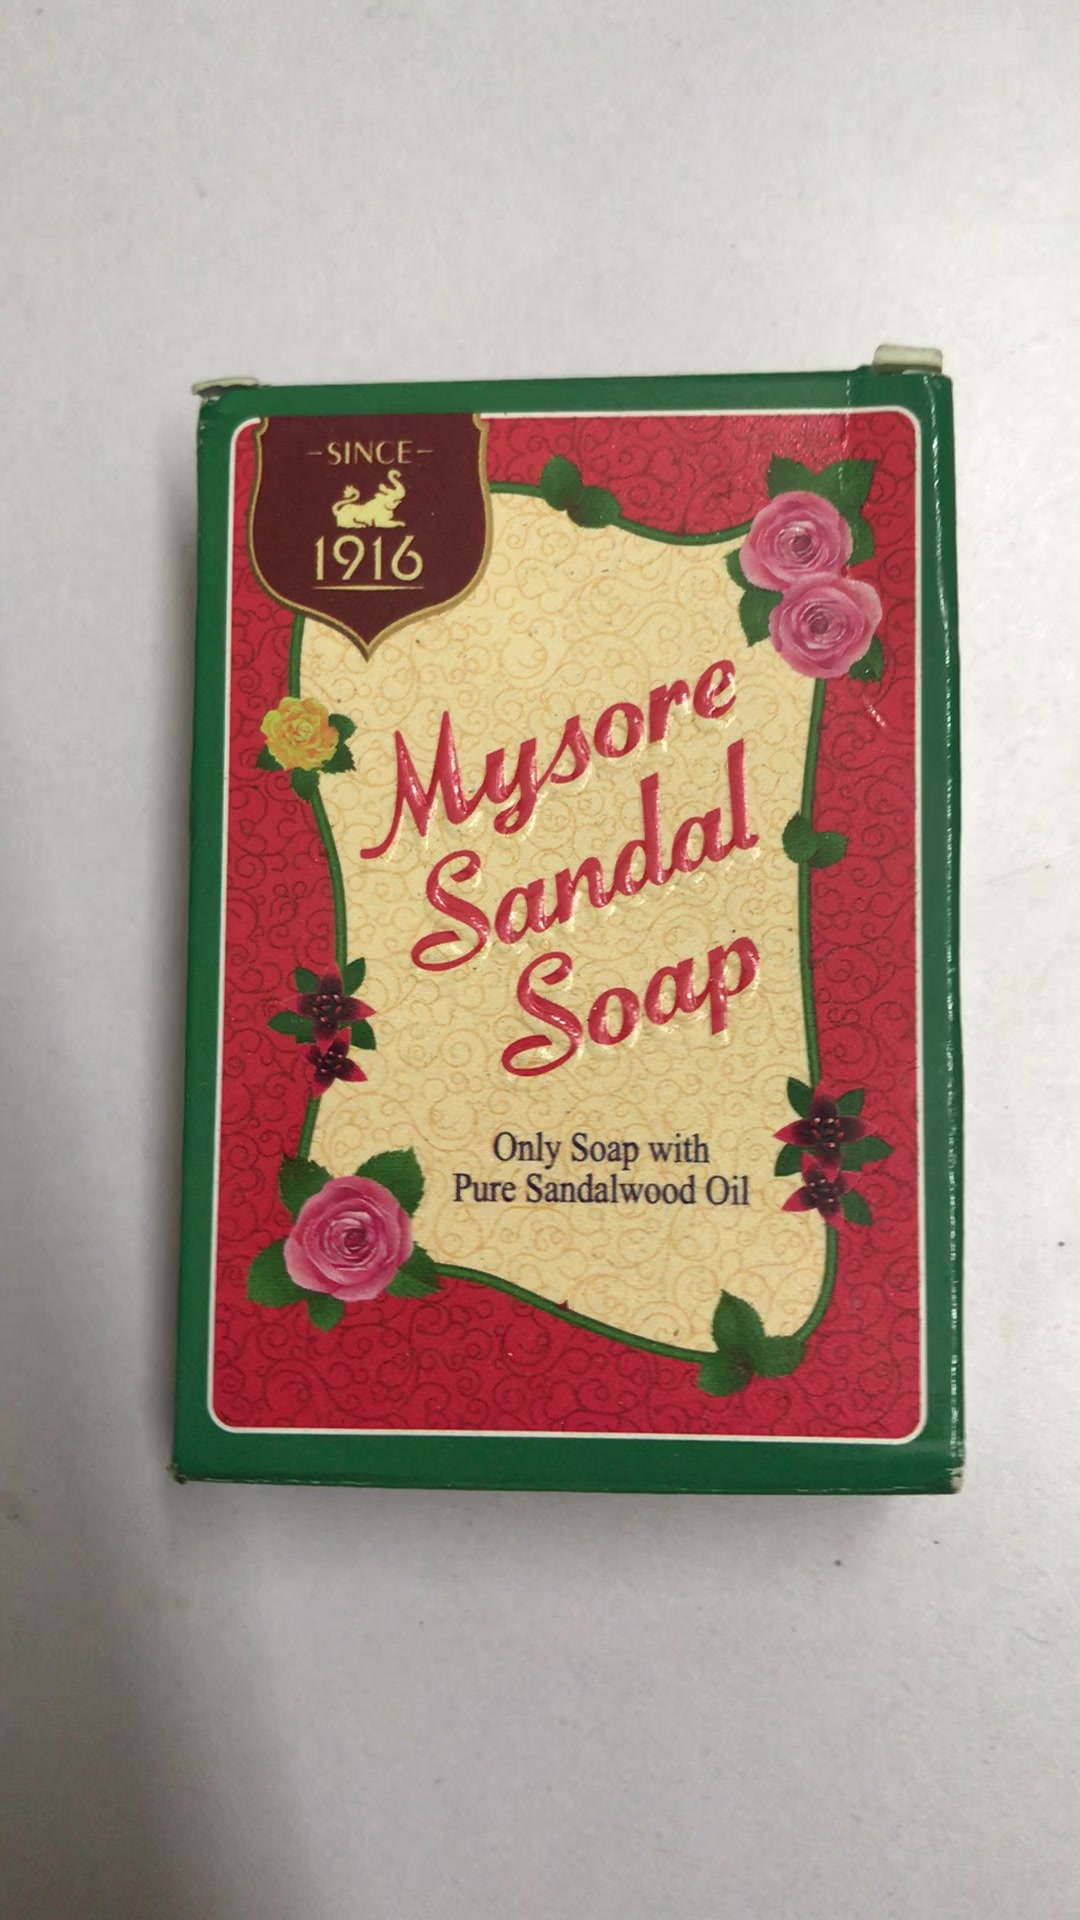mysore sandal soap: (179, 373, 968, 1491)
